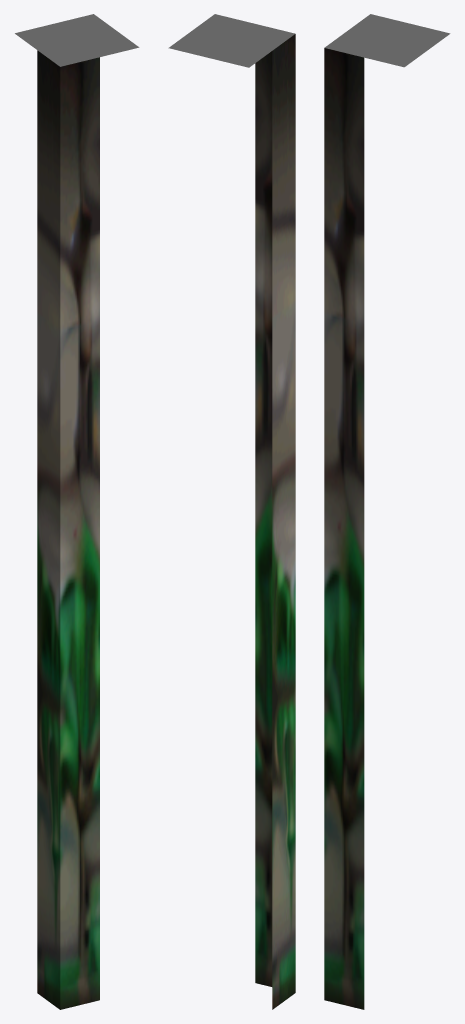
The model's file is W_I__Eckverschluß [Hafen]_62.glb.
3 views of the same model, side by side, from view 1: azimuth 30°, elevation 25°; view 2: azimuth 150°, elevation 25°; view 3: azimuth 330°, elevation 25° (orthographic).
Visible parts, largest first — view 1: pPlaneShape7, pPlaneShape11; view 2: pPlaneShape7, pPlaneShape11; view 3: pPlaneShape7, pPlaneShape11.
Part boxes in pixels (<box>): pPlaneShape7: <box>37,50,99,1009</box>; pPlaneShape11: <box>15,14,139,66</box>; pPlaneShape7: <box>255,34,295,1009</box>; pPlaneShape11: <box>168,14,295,67</box>; pPlaneShape7: <box>324,48,364,1009</box>; pPlaneShape11: <box>324,14,450,67</box>.
Size of the model in its own units: 0.0307 by 0.3486 by 0.0307.
2 materials, 1 textured.
